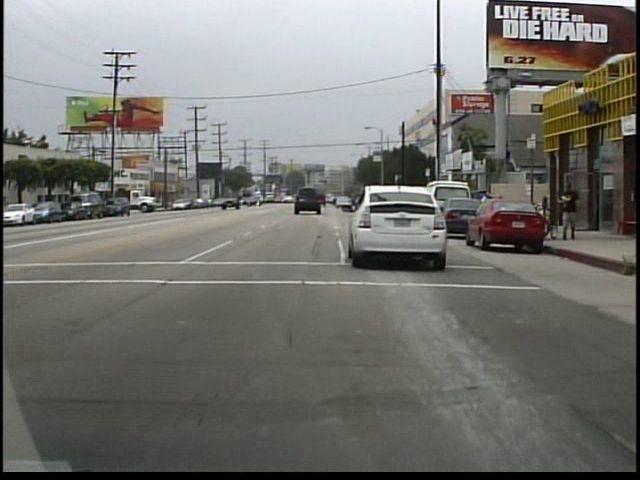person: (557, 175, 583, 245)
